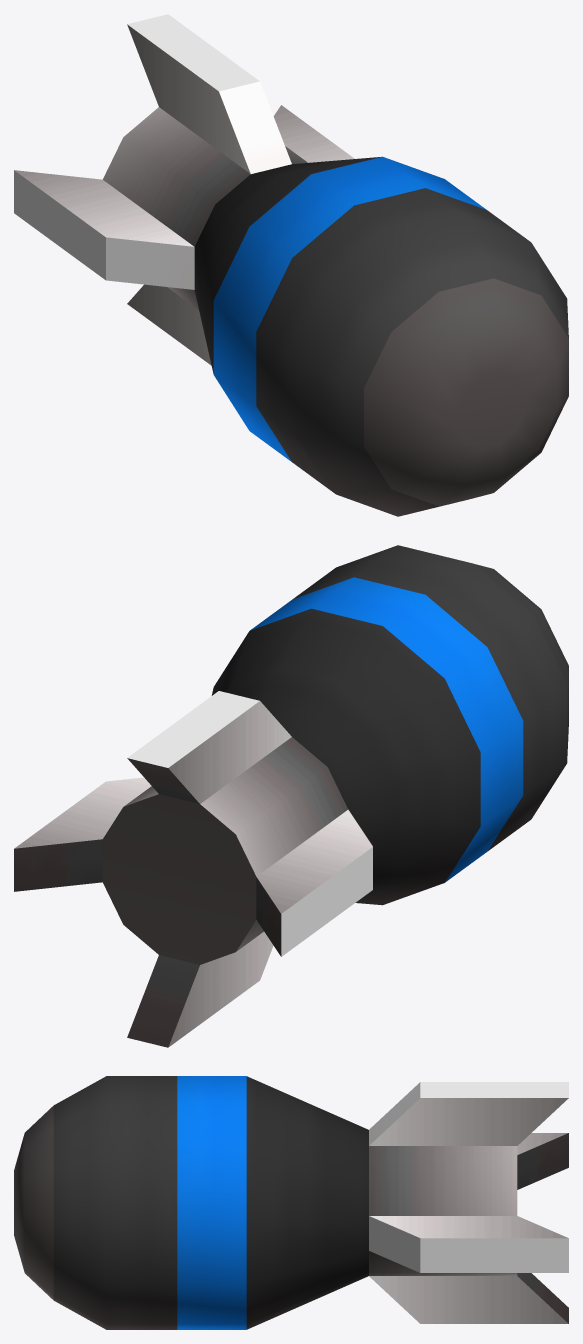
File: RefPlaneBomb Variant.fbx
3 renders of one model, top to bottom at view 1: azimuth 30°, elevation 25°; view 2: azimuth 150°, elevation 25°; view 3: azimuth 270°, elevation 25°, orthographic. The views are drawn at different scales.
Visible parts, largest first — view 1: RefPlaneBomb Variant; view 2: RefPlaneBomb Variant; view 3: RefPlaneBomb Variant.
Part boxes in pixels (left/top/right/bottom): RefPlaneBomb Variant: left=14, top=14, right=568, bottom=516; RefPlaneBomb Variant: left=14, top=545, right=568, bottom=1047; RefPlaneBomb Variant: left=14, top=1076, right=568, bottom=1329.
Bounding box in the file's own units: 0.498 × 0.498 × 1.11.
Materials: 1 (1 with a texture image).
